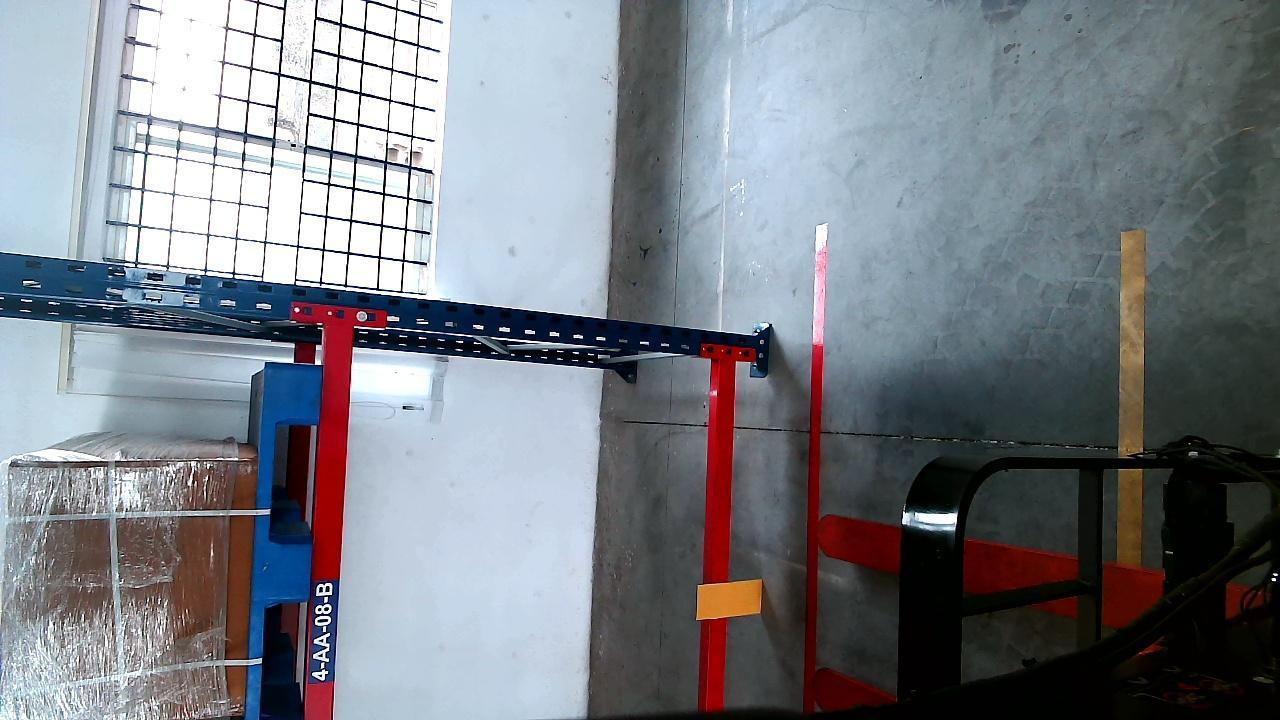h_rack: (307, 324, 356, 720), (700, 353, 738, 712)
orange_strip: (698, 580, 763, 619)
red_line: (799, 223, 832, 720)
small_pallet: (245, 364, 320, 720)
yellow_line: (1117, 235, 1147, 567)
